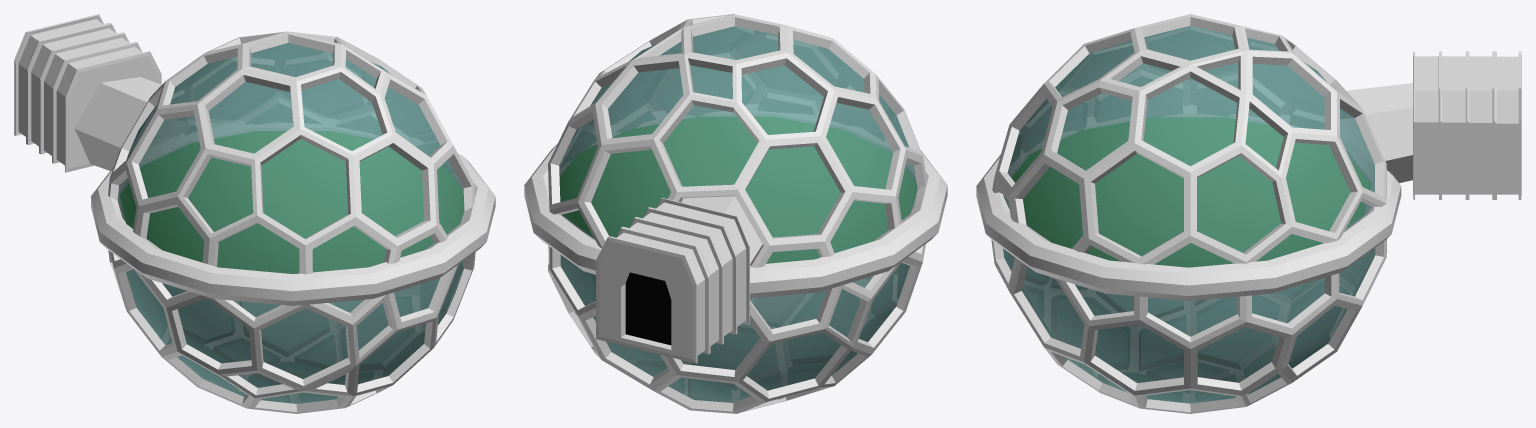
The model's file is BioDome.fbx.
The picture shows the model from 3 angles, left to right: view 1: azimuth 30°, elevation 25°; view 2: azimuth 150°, elevation 25°; view 3: azimuth 270°, elevation 25°; orthographic projection. The views are drawn at different scales.
Parts seen in each view (by area): view 1: pCylinder7; view 2: pCylinder7; view 3: pCylinder7.
Boxes of the visible parts, box(x1,y1,x2,y2) form: pCylinder7: box(14, 14, 495, 413); pCylinder7: box(524, 14, 947, 413); pCylinder7: box(976, 14, 1521, 413).
Bounding box in the file's own units: 29.2 × 27.4 × 37.68.
